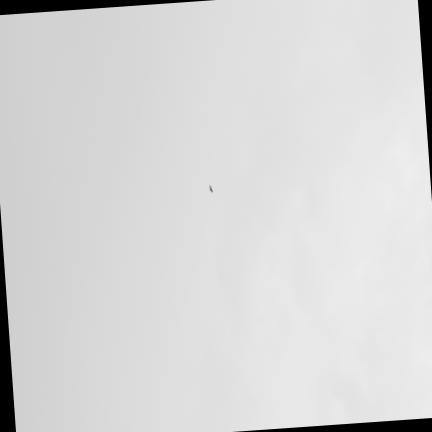Shahed: (208, 185, 212, 192)
